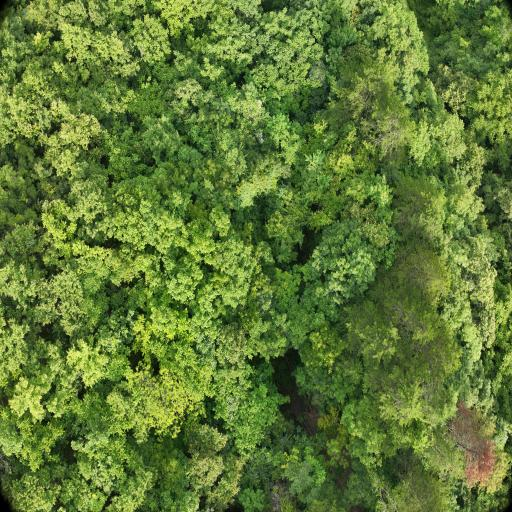sick-tree: (460, 413, 494, 482)
